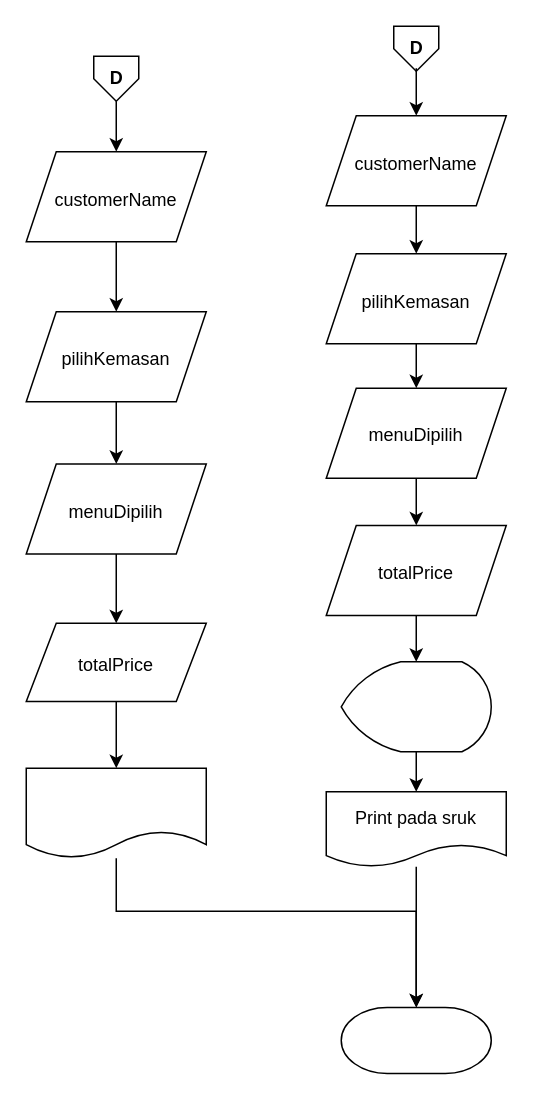
This 533x1101 diagram has some shape labels left out. Here are the shapes that lost their labels. From the top down, the centre of each, then its label:
At [415,706]: "tampilkan QRIS warung".
At [115,812]: "Print pada struk".
At [415,1039]: "Finish".
